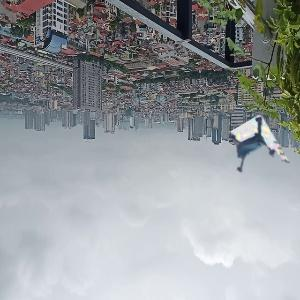drone: (220, 126, 284, 190)
